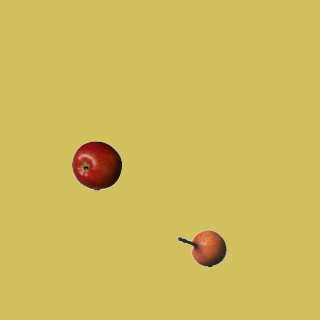Apple Braeburn: (71, 140, 121, 190)
Granadilla: (176, 223, 226, 273)
